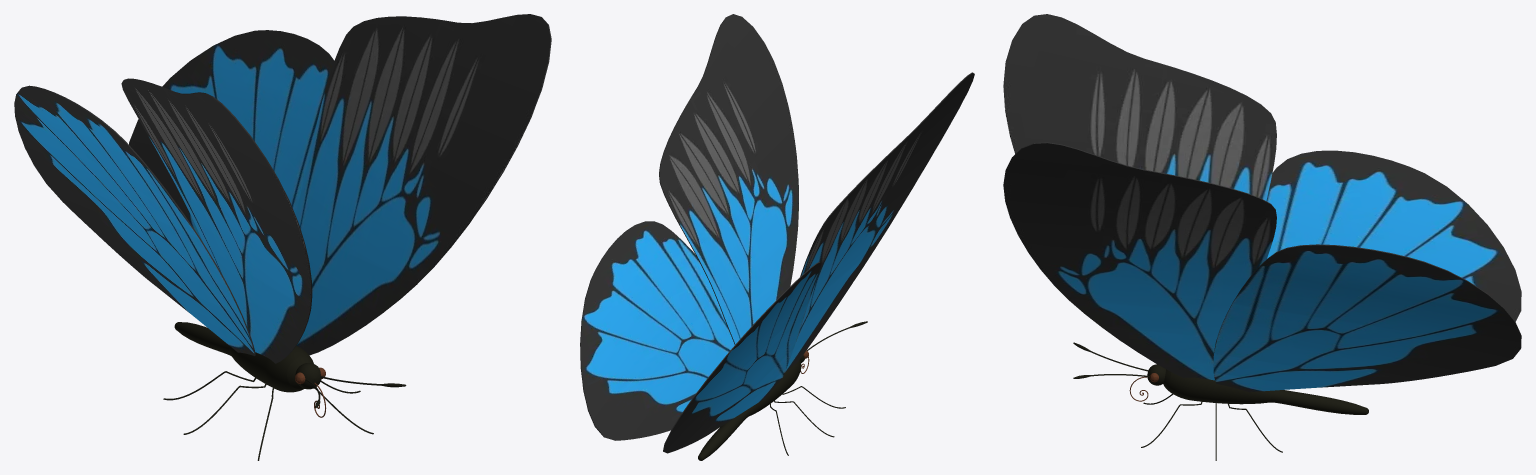
File: borboleta.glb
The picture shows the model from 3 angles, left to right: view 1: azimuth 30°, elevation 25°; view 2: azimuth 150°, elevation 25°; view 3: azimuth 270°, elevation 25°; orthographic projection. The views are drawn at different scales.
Parts seen in each view (by area): view 1: Upper left, Upper right, Bottom right, Bottom left, Body; view 2: Upper left, Bottom left, Upper right, Bottom right, Body; view 3: Upper left, Bottom left, Upper right, Bottom right, Body.
Boxes of the visible parts, bbox=[...] form: Upper left: bbox=[295, 14, 551, 355]; Upper right: bbox=[121, 78, 312, 363]; Bottom right: bbox=[14, 85, 255, 355]; Bottom left: bbox=[129, 30, 334, 241]; Body: bbox=[174, 322, 321, 392]; Upper left: bbox=[659, 14, 798, 344]; Bottom left: bbox=[580, 221, 734, 440]; Upper right: bbox=[785, 72, 974, 372]; Bottom right: bbox=[663, 261, 821, 453]; Body: bbox=[698, 355, 804, 460]; Upper left: bbox=[1003, 142, 1276, 380]; Bottom left: bbox=[1213, 244, 1521, 392]; Upper right: bbox=[1003, 14, 1276, 200]; Bottom right: bbox=[1266, 150, 1521, 321]; Body: bbox=[1147, 364, 1368, 414].
Bounding box in the file's own units: 0.0315 × 0.0397 × 0.0535.
Materials: 4 (2 with a texture image).
